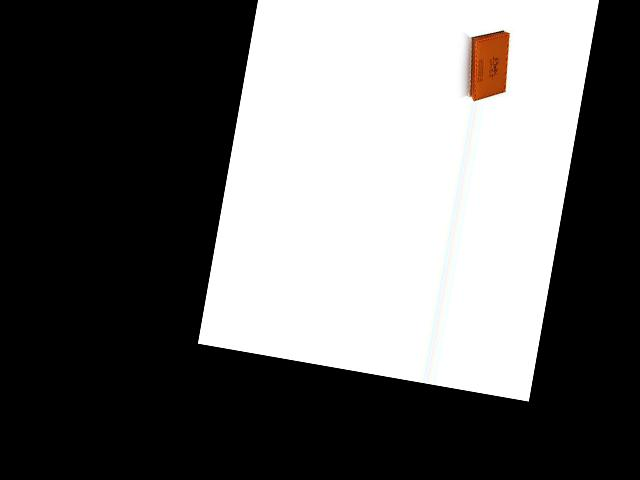chocolate: (455, 22, 518, 105)
